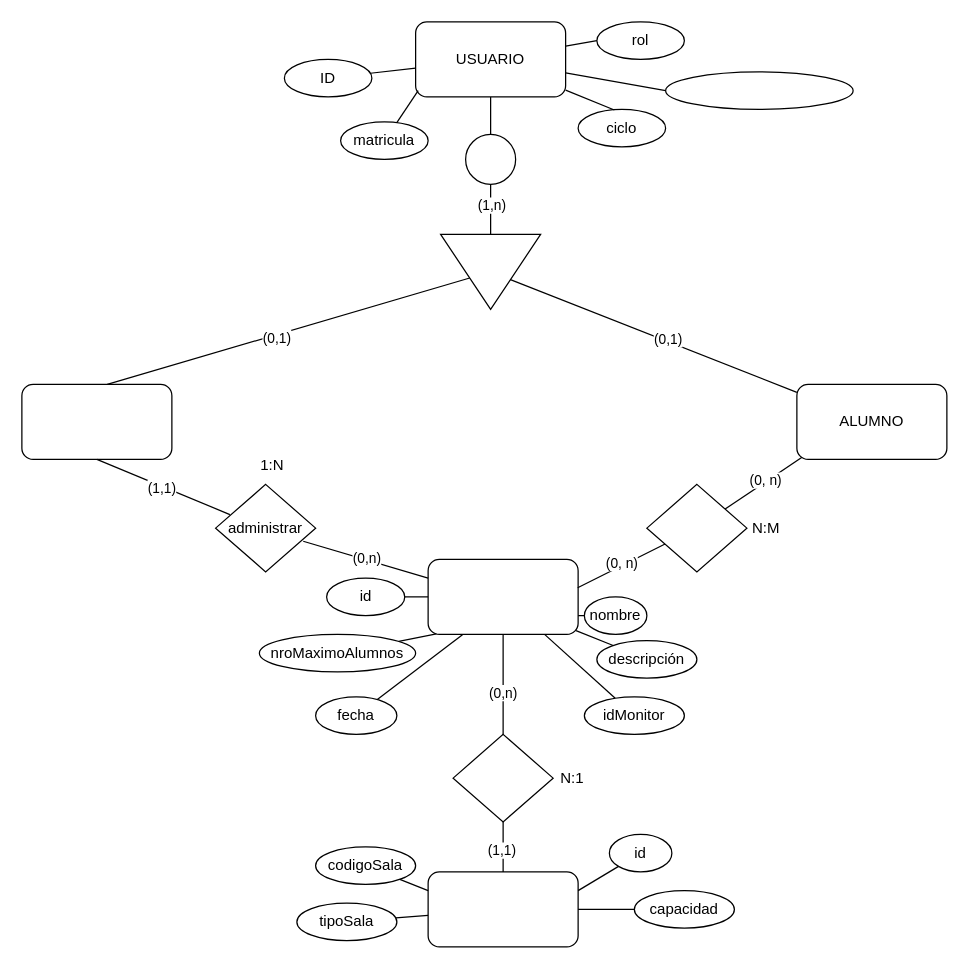
Image size: 969x969. Some labels were removed from this diagram. The centre of each missing label's shape, as x and y in pixels:
ACTIVIDAD: point (502, 596)
gestionar inscripción: point (696, 527)
MONITOR: point (96, 421)
nombresApellidos: point (758, 90)
SALA: point (502, 909)
se realiza en: point (502, 777)
